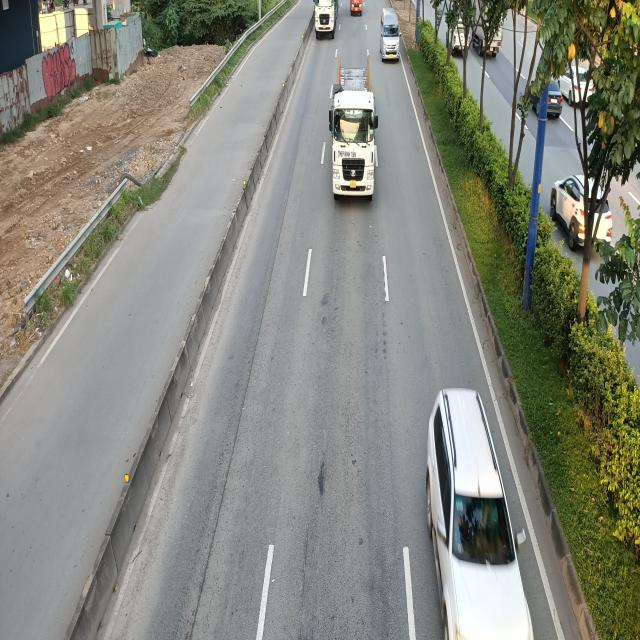car: (423, 391, 539, 640)
container: (327, 51, 379, 200)
van: (380, 8, 401, 60)
